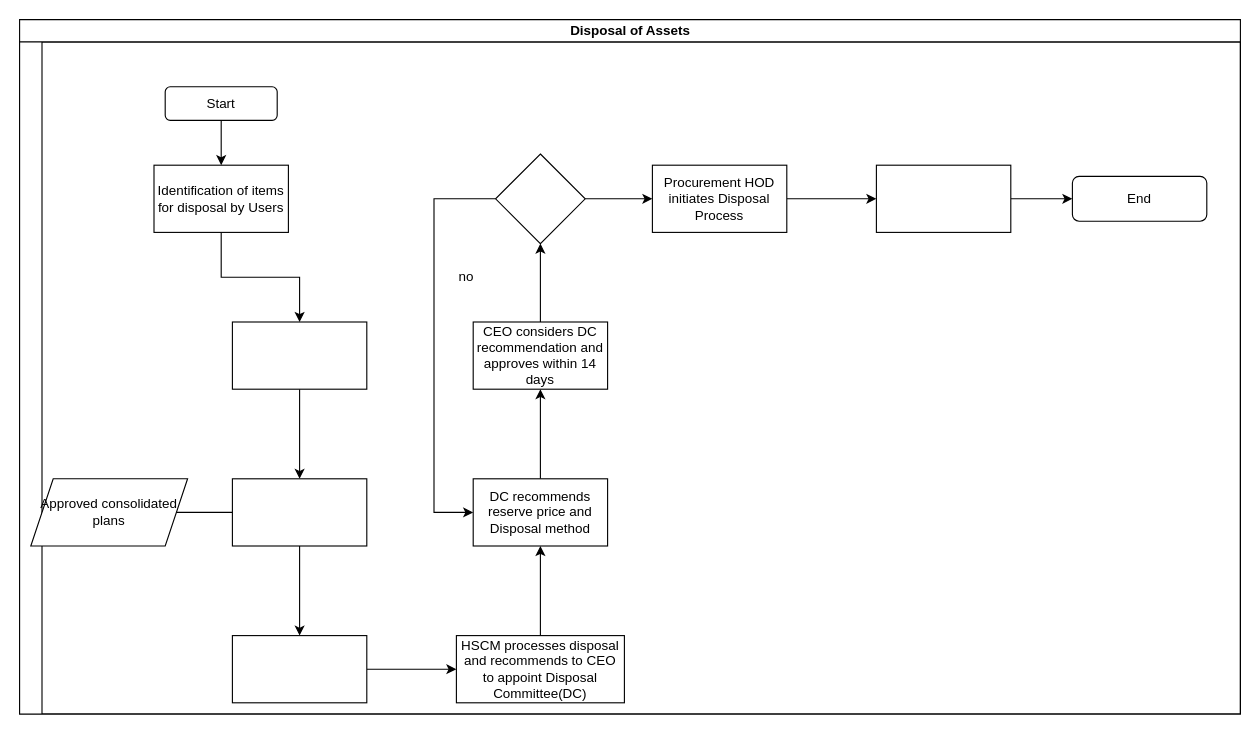
The diagram is 1260 pixels wide and 734 high, and some of its shapes have lost their labels. Here are the shapes that lost their labels. From the top down, the centre of each, then its label:
the point at 539,198: CEO Approves?
the point at 943,198: Disposed items are removed from registry
the point at 299,355: User submit items for disposal 30 days before end of Financial year
the point at 299,512: Consolidated annual disposal plan is submitted to CEO for approval
the point at 299,668: Items are assembled in store
